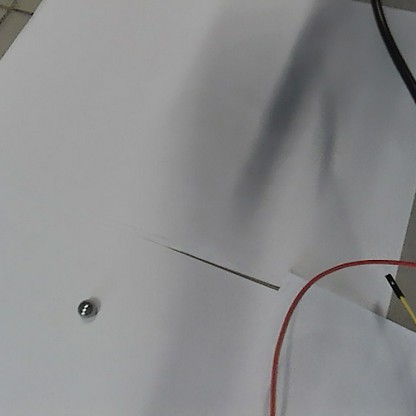ironball: (77, 298, 101, 321)
